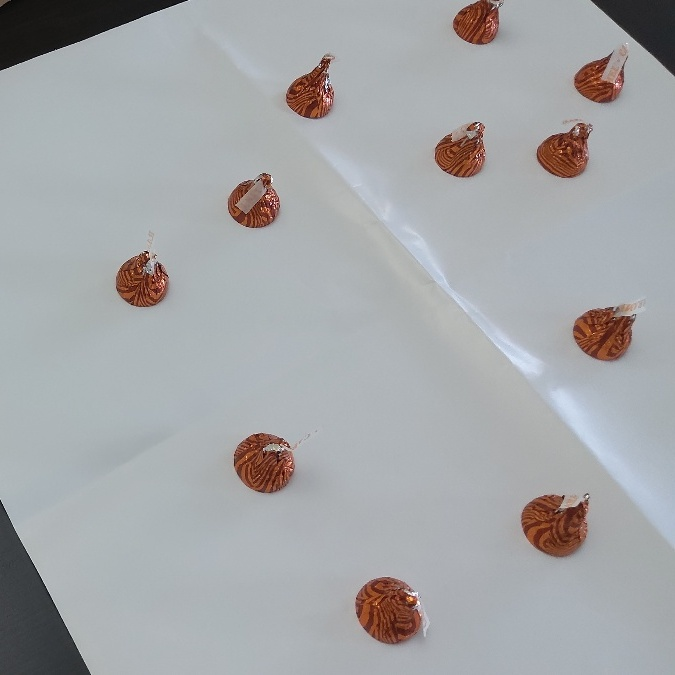chocolate_gold: (520, 489, 587, 560), (229, 430, 295, 501), (357, 576, 423, 646), (225, 167, 284, 232), (280, 53, 339, 118), (113, 245, 171, 309), (570, 45, 629, 104), (536, 119, 595, 177), (434, 124, 493, 182), (573, 302, 631, 361), (450, 1, 509, 43)
